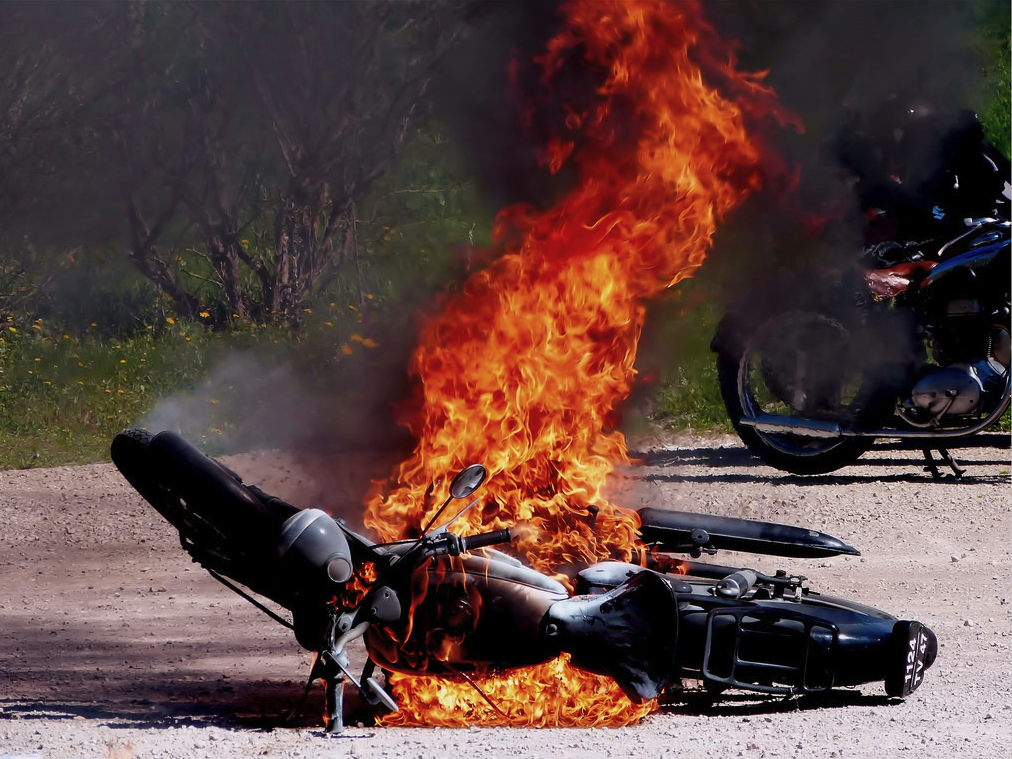fire: (355, 6, 720, 731)
